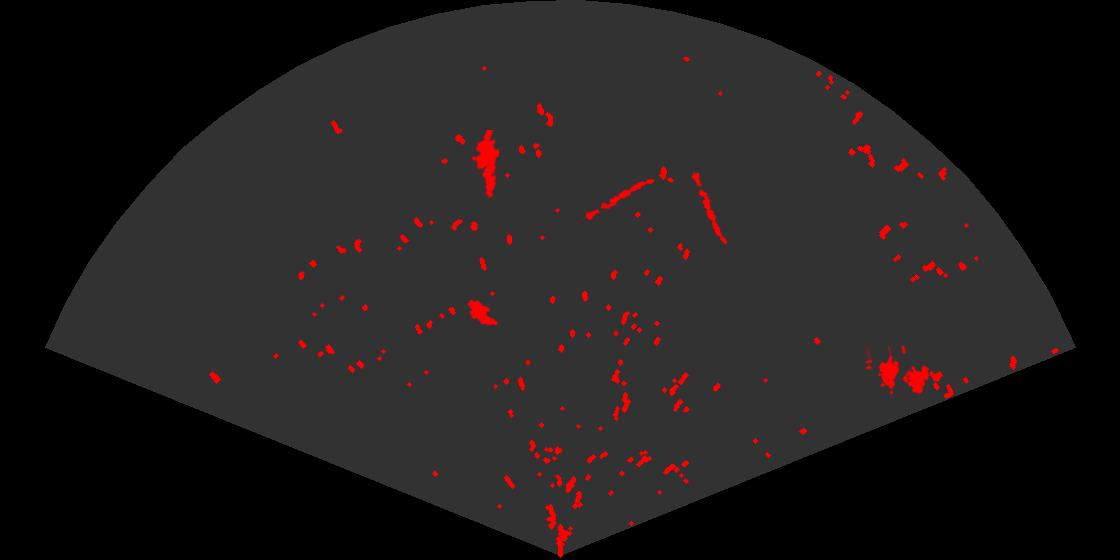AUV: (466, 298, 500, 327)
cage: (866, 346, 931, 396)
chain: (575, 177, 656, 226), (690, 169, 729, 246)
frogman: (470, 130, 501, 200)
